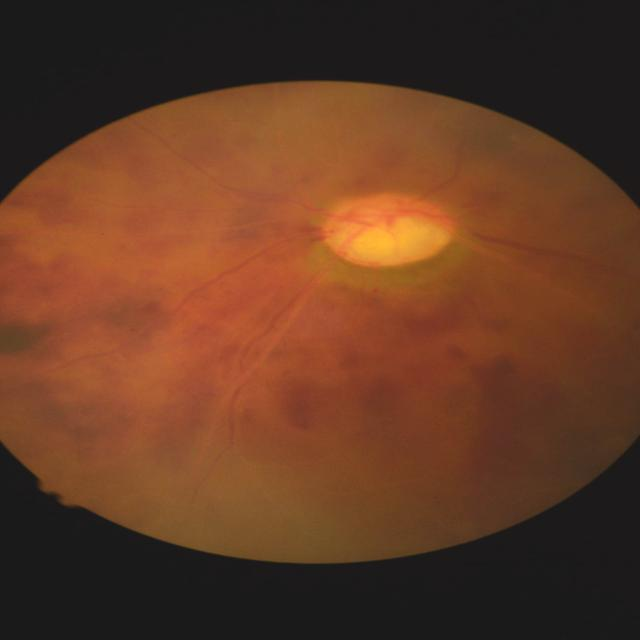cup: (338, 202, 438, 259)
disk: (322, 189, 457, 267)
